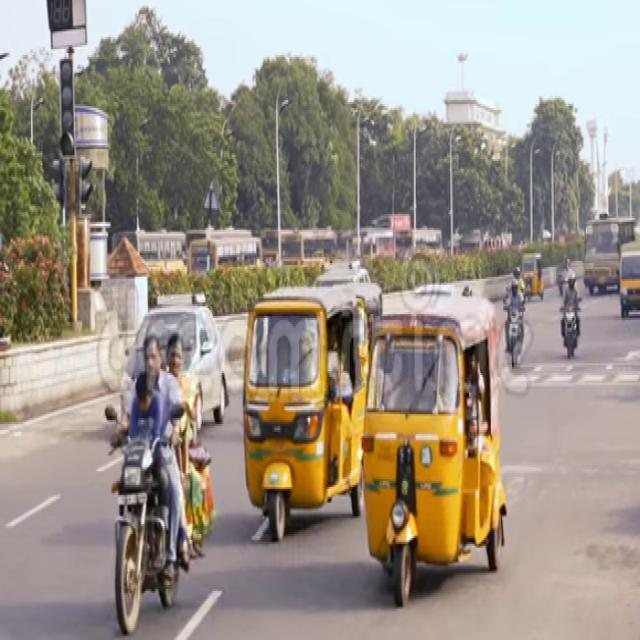motorbike: (107, 335, 201, 640), (504, 282, 529, 382), (556, 271, 581, 362)
rikshaw: (358, 304, 500, 630), (239, 269, 356, 577)
